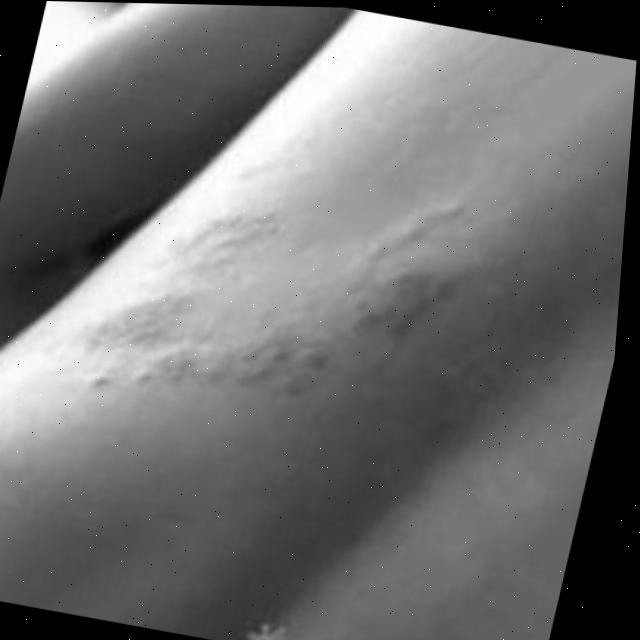Shingles: (84, 189, 451, 430)
